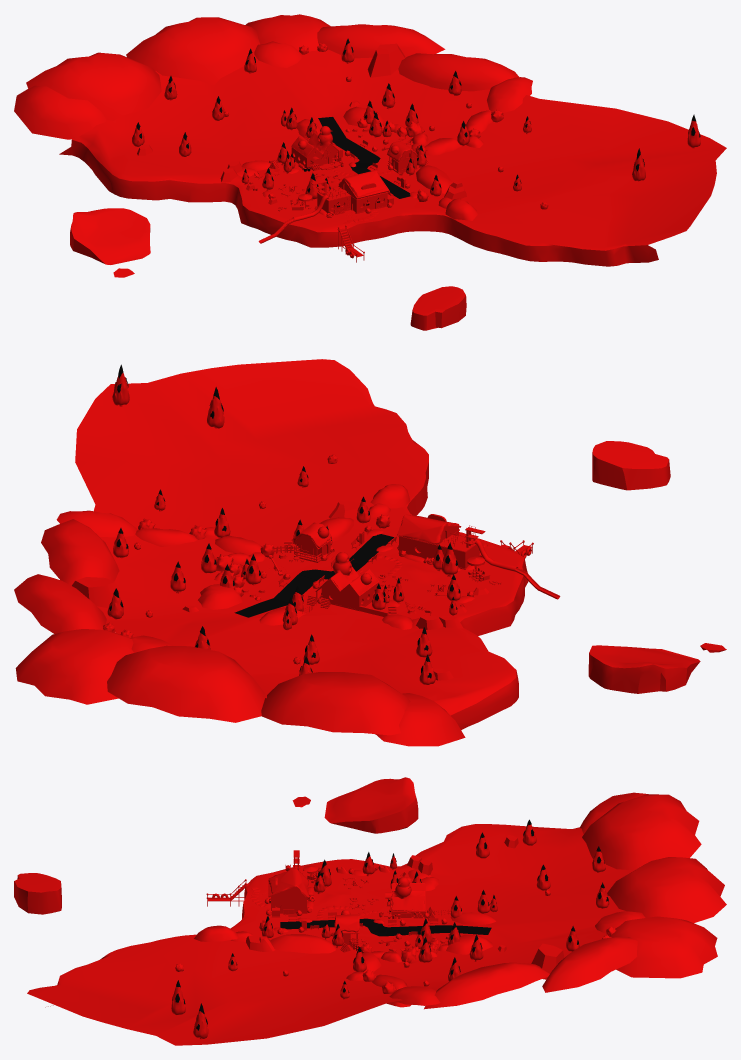
Rendered from Individual_PudgyPort_02.glb.
3 views of the same model, one above another, from view 1: azimuth 30°, elevation 25°; view 2: azimuth 150°, elevation 25°; view 3: azimuth 270°, elevation 25° (orthographic). The views are drawn at different scales.
Visible parts, largest first — view 1: pasted__Object_PudgyPortRoad, pasted__SnowPatch22, pasted__SnowPatch23, pasted__SnowPatch24, pasted__SnowPatch25, pasted__SnowPatch26, pasted__polySurface129, pasted__SnowPatch28, polySurface2, pasted__SnowPatch31, pasted__SnowPatch27, pasted__Object_IceRock9 (+3 smaller); view 2: pasted__Object_PudgyPortRoad, pasted__SnowPatch22, pasted__SnowPatch23, pasted__SnowPatch28, pasted__SnowPatch26, pasted__SnowPatch25, pasted__polySurface129, pasted__SnowPatch24, polySurface2, pasted__SnowPatch31, pasted__pasted__Foliage_Bush17, pasted__Object_IceRock9 (+5 smaller); view 3: pasted__Object_PudgyPortRoad, pasted__SnowPatch23, pasted__SnowPatch22, pasted__SnowPatch28, pasted__SnowPatch26, pasted__SnowPatch25, pasted__polySurface129, polySurface2, pasted__SnowPatch8, pasted__pasted__Foliage_Bush17, pasted__SnowPatch31, pasted__SnowPatch24 (+5 smaller).
Boxes of the visible parts, box(x1,y1,x2,y2) form: pasted__Object_PudgyPortRoad: box(59, 49, 726, 330); pasted__SnowPatch22: box(126, 17, 260, 85); pasted__SnowPatch23: box(26, 52, 161, 120); pasted__SnowPatch24: box(14, 85, 106, 139); pasted__SnowPatch25: box(398, 53, 518, 91); pasted__SnowPatch26: box(317, 24, 445, 58); pasted__polySurface129: box(258, 170, 389, 243); pasted__SnowPatch28: box(245, 14, 330, 51); polySurface2: box(291, 126, 340, 170); pasted__SnowPatch31: box(487, 77, 532, 112); pasted__SnowPatch27: box(254, 41, 303, 67); pasted__Object_IceRock9: box(367, 43, 405, 77); pasted__Object_PudgyPortRoad: box(75, 359, 726, 729); pasted__SnowPatch22: box(107, 645, 265, 722); pasted__SnowPatch23: box(261, 672, 410, 735); pasted__SnowPatch28: box(15, 629, 133, 704); pasted__SnowPatch26: box(14, 574, 106, 633); pasted__SnowPatch25: box(41, 519, 119, 585); pasted__polySurface129: box(397, 514, 560, 599); pasted__SnowPatch24: box(375, 693, 465, 746); polySurface2: box(315, 552, 379, 610); pasted__SnowPatch31: box(56, 510, 137, 537); pasted__pasted__Foliage_Bush17: box(215, 514, 474, 603); pasted__Object_IceRock9: box(72, 577, 129, 608); pasted__Object_PudgyPortRoad: box(14, 777, 634, 1045); pasted__SnowPatch23: box(582, 794, 701, 870); pasted__SnowPatch22: box(607, 857, 726, 922); pasted__SnowPatch28: box(609, 916, 717, 978); pasted__SnowPatch26: box(542, 937, 637, 992); pasted__SnowPatch25: box(424, 962, 549, 1009); pasted__polySurface129: box(268, 850, 309, 913); polySurface2: box(381, 877, 425, 916); pasted__SnowPatch8: box(270, 934, 335, 953); pasted__pasted__Foliage_Bush17: box(259, 868, 449, 963); pasted__SnowPatch31: box(389, 986, 440, 1005); pasted__SnowPatch24: box(579, 792, 648, 834).
Size of the model in its own units: 115 by 13.6 by 120.
